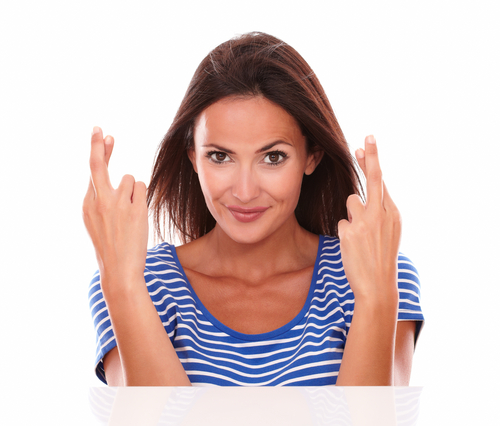face: (193, 95, 309, 243)
hand: (336, 134, 402, 295), (81, 126, 150, 278)
